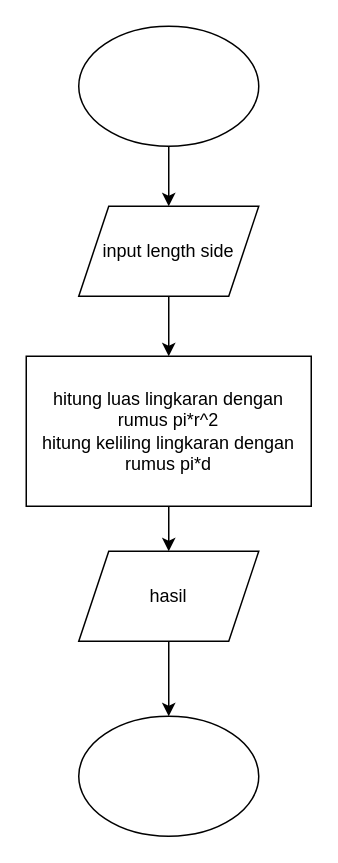
The diagram is 338 pixels wide and 863 high, and some of its shapes have lost their labels. Here are the shapes that lost their labels. From the top down, the box of each, then its label:
(77, 25, 259, 146): start
(77, 715, 259, 836): end
